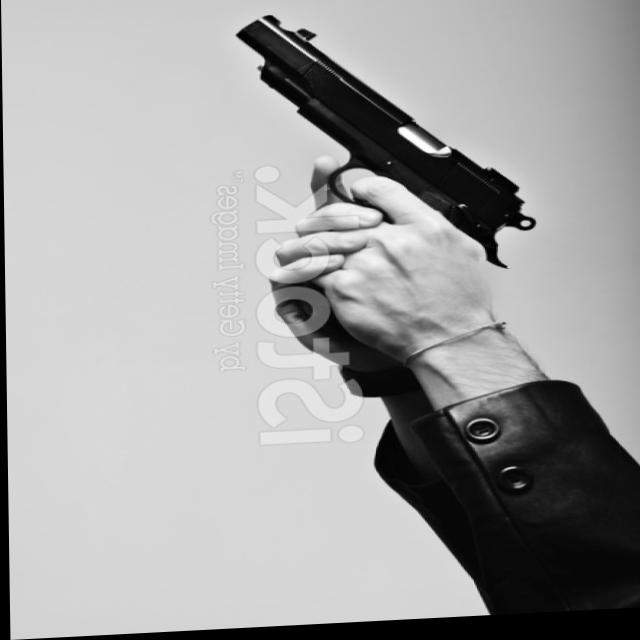handgun: (230, 7, 538, 351)
